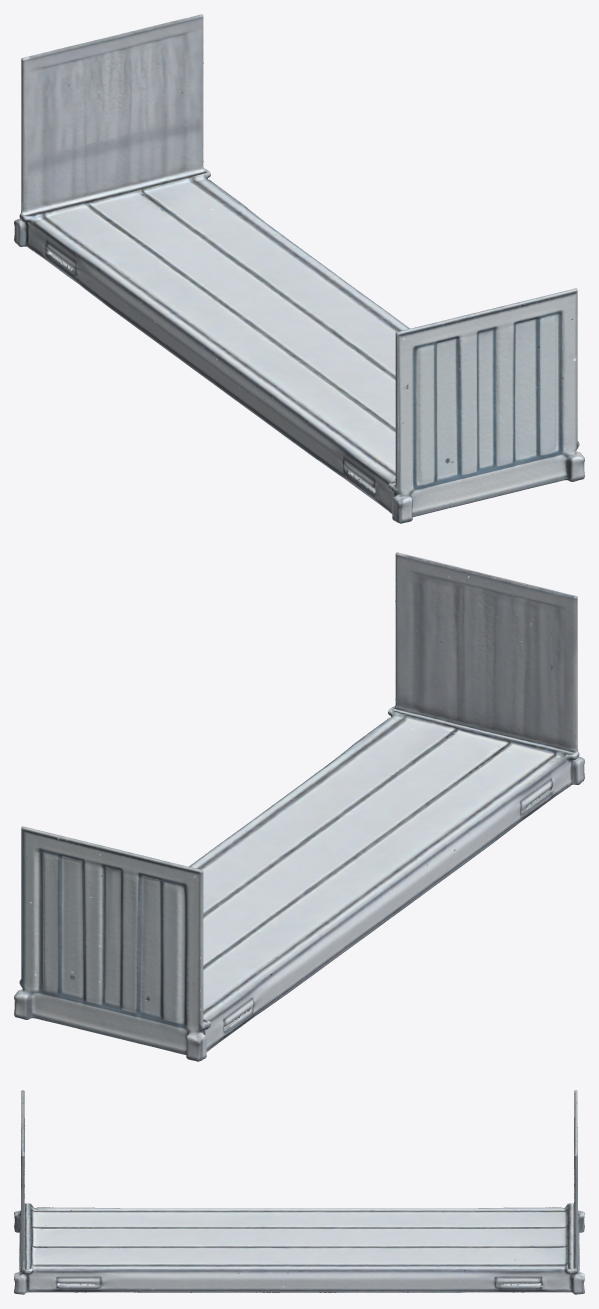
The model's file is 40FR.original.glb.
3 renders of one model, top to bottom at view 1: azimuth 30°, elevation 25°; view 2: azimuth 150°, elevation 25°; view 3: azimuth 270°, elevation 25°, orthographic. The views are drawn at different scales.
Bounding box in the file's own units: 0.5613 × 0.5387 × 2.01.
1 material, 1 textured.
